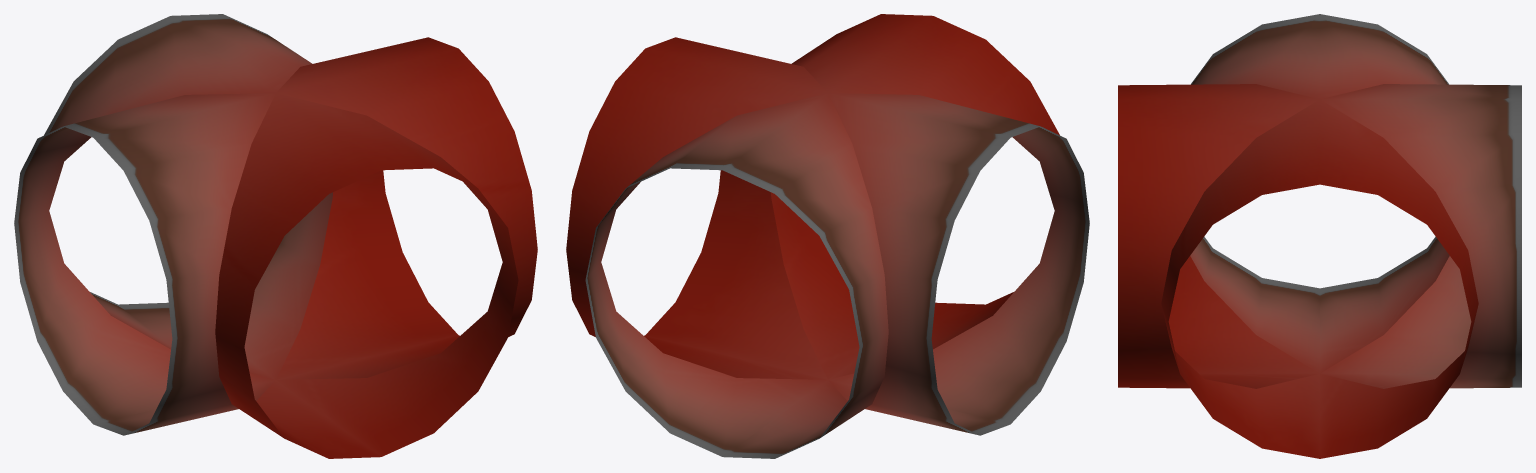
File: pipe01_junction_4way.fbx
The picture shows the model from 3 angles, left to right: view 1: azimuth 30°, elevation 25°; view 2: azimuth 150°, elevation 25°; view 3: azimuth 270°, elevation 25°; orthographic projection. The views are drawn at different scales.
Parts seen in each view (by area): view 1: pipe01_junction_4way; view 2: pipe01_junction_4way; view 3: pipe01_junction_4way.
Boxes of the visible parts, x1=… form: pipe01_junction_4way: x1=14, y1=14, x2=537, y2=458; pipe01_junction_4way: x1=566, y1=14, x2=1089, y2=458; pipe01_junction_4way: x1=1118, y1=14, x2=1521, y2=458.
Bounding box in the file's own units: 16 × 12 × 16.
